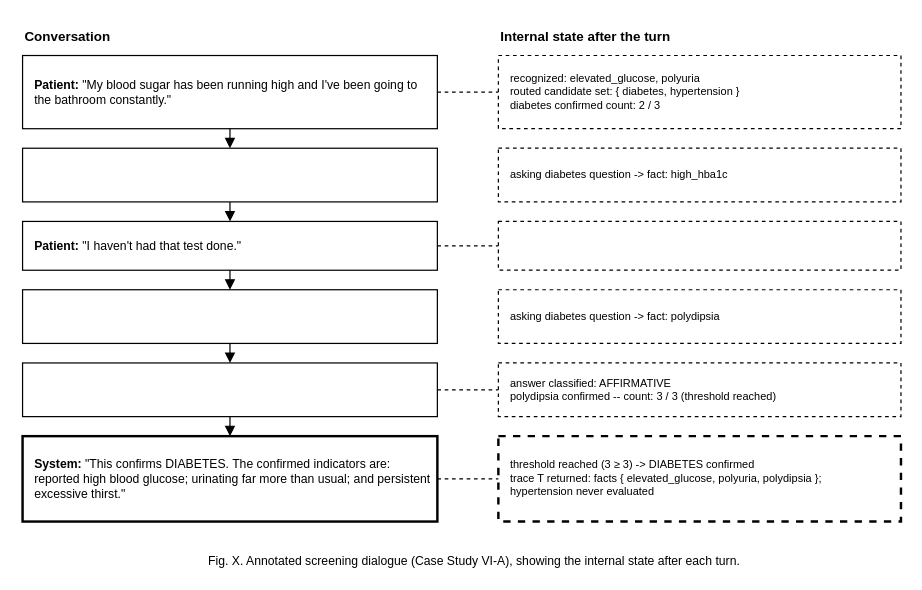
This 922x590 diagram has some shape labels left out. Here are the shapes that lost their labels. From the top down, the centre of each, then its label:
(x=229, y=174): System: "Have you had a blood test showing a high HbA1c level?"
(x=699, y=245): answer classified: UNCERTAIN high_hba1c not confirmed -- count unchanged: 2 / 3
(x=229, y=316): System: "Are you feeling unusually thirsty most of the time?"
(x=229, y=389): Patient: "Yes, constantly -- I can't seem to drink enough water."
